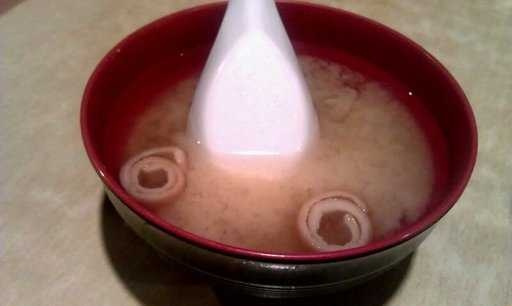soup: (132, 43, 423, 219)
